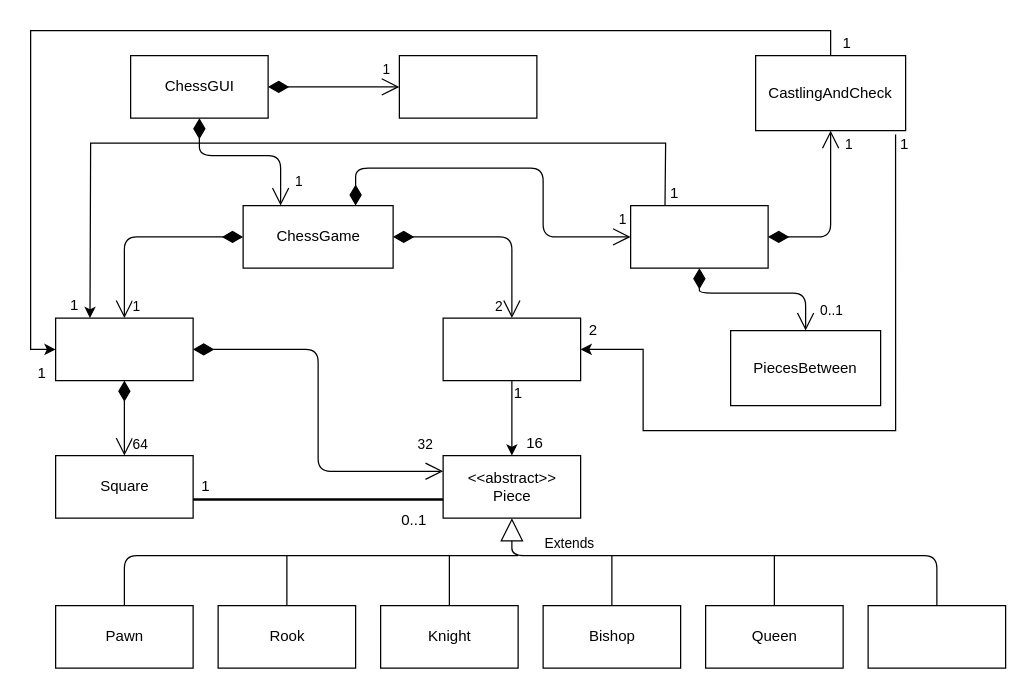
The diagram is 1028 pixels wide and 690 high, and some of its shapes have lost their labels. Each missing label, with the centre of its shape:
"BoardPanel" goes at [467,86].
"ChessBoard" goes at [123,349].
"King" goes at [936,636].
"Player" goes at [511,349].
"Validator" goes at [698,236].
